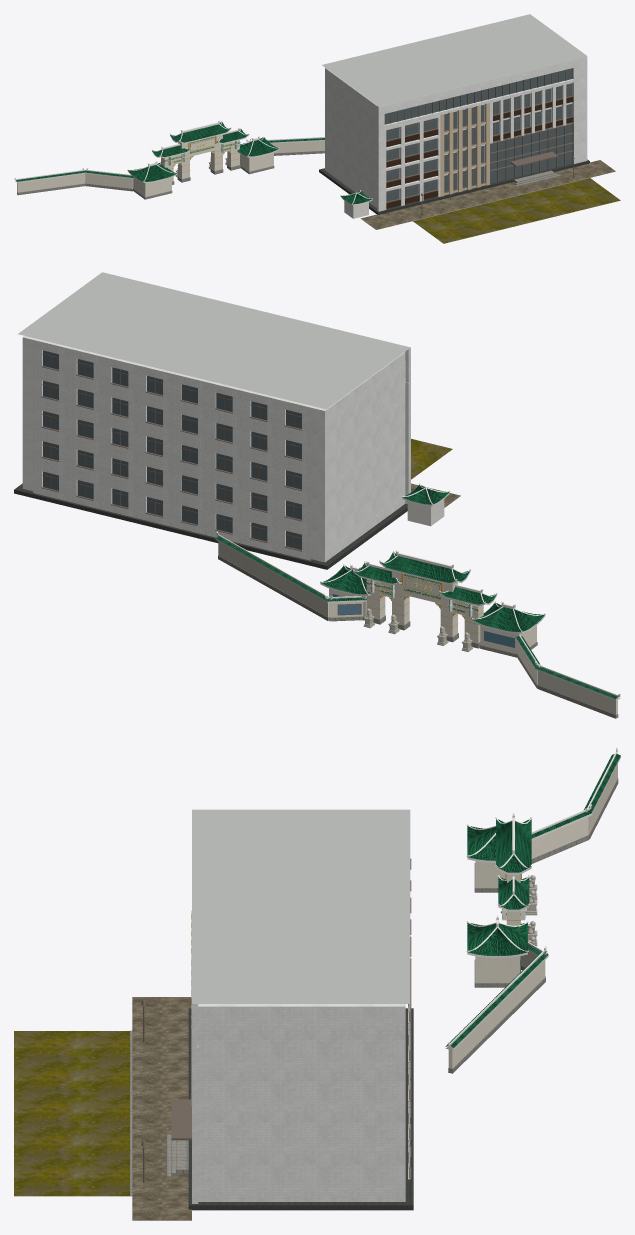
Rendered from r2_heroes_north_lod0.glb.
3 renders of one model, top to bottom at view 1: azimuth 30°, elevation 25°; view 2: azimuth 150°, elevation 25°; view 3: azimuth 270°, elevation 25°, orthographic. The views are drawn at different scales.
Visible parts, largest first — view 1: keji_science_tech_r2, beimen_north_gate_r2; view 2: keji_science_tech_r2, beimen_north_gate_r2; view 3: keji_science_tech_r2, beimen_north_gate_r2.
Boxes of the visible parts, x1,y1,x2,y2 form: keji_science_tech_r2: [319, 14, 620, 243]; beimen_north_gate_r2: [14, 121, 324, 199]; keji_science_tech_r2: [14, 272, 460, 569]; beimen_north_gate_r2: [215, 531, 620, 718]; keji_science_tech_r2: [14, 809, 413, 1220]; beimen_north_gate_r2: [445, 747, 620, 1073].
Bounding box in the file's own units: 91.07 × 19.81 × 52.84.
21 materials, 11 textured.
